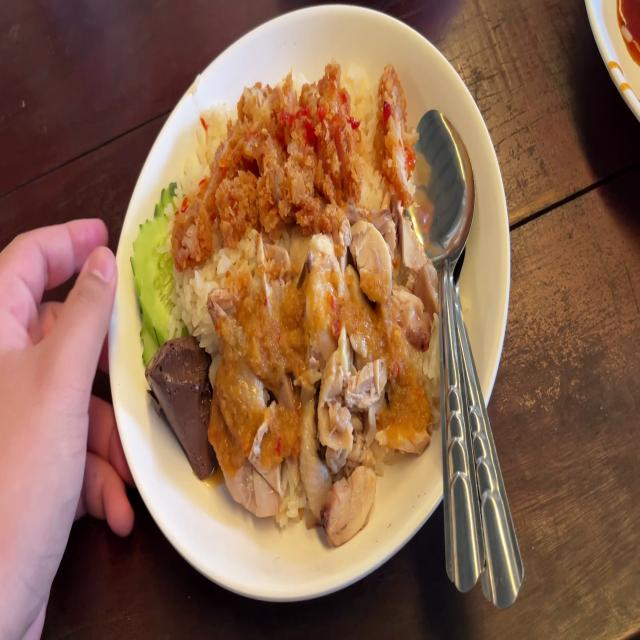boiled_chicken: (208, 243, 426, 522)
boiled_chicken_blood_jelly: (143, 326, 216, 476)
chicken_rice: (132, 68, 452, 551)
cucumber: (125, 176, 182, 362)
fried_chicken: (179, 78, 358, 244), (376, 67, 416, 201)
